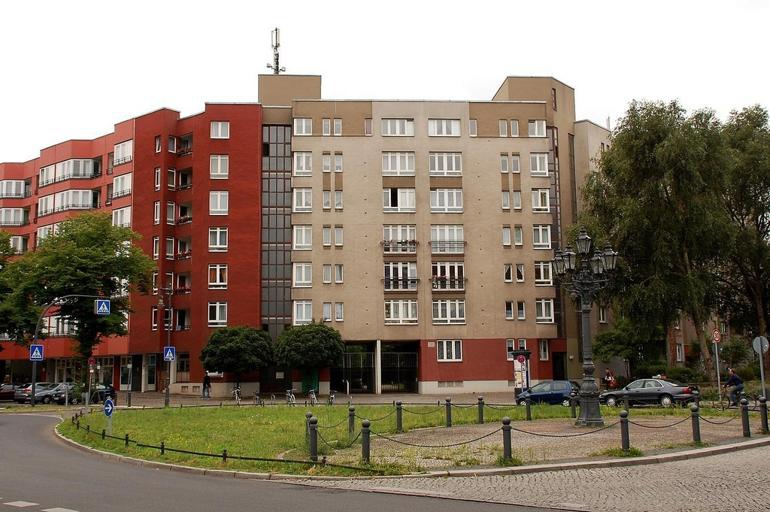non-vehicle: (712, 386, 756, 411), (230, 387, 241, 406), (285, 388, 296, 407), (308, 389, 319, 406), (328, 389, 337, 405), (203, 385, 211, 399), (252, 390, 260, 403)
